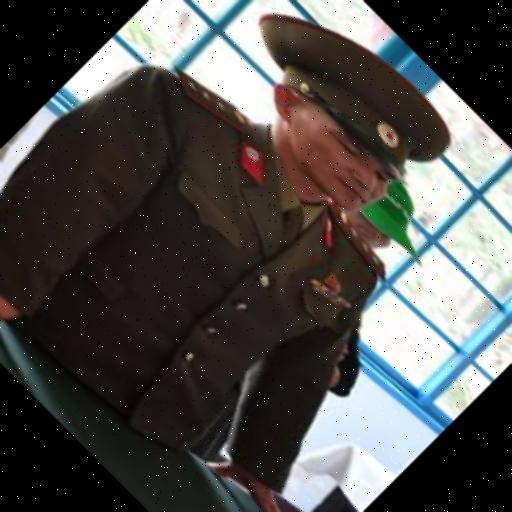north army: (44, 8, 479, 493)
